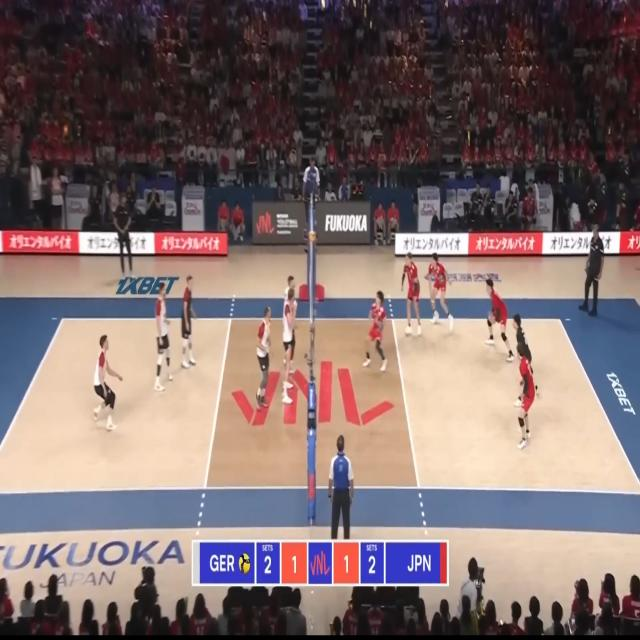ball: (309, 230, 316, 242)
